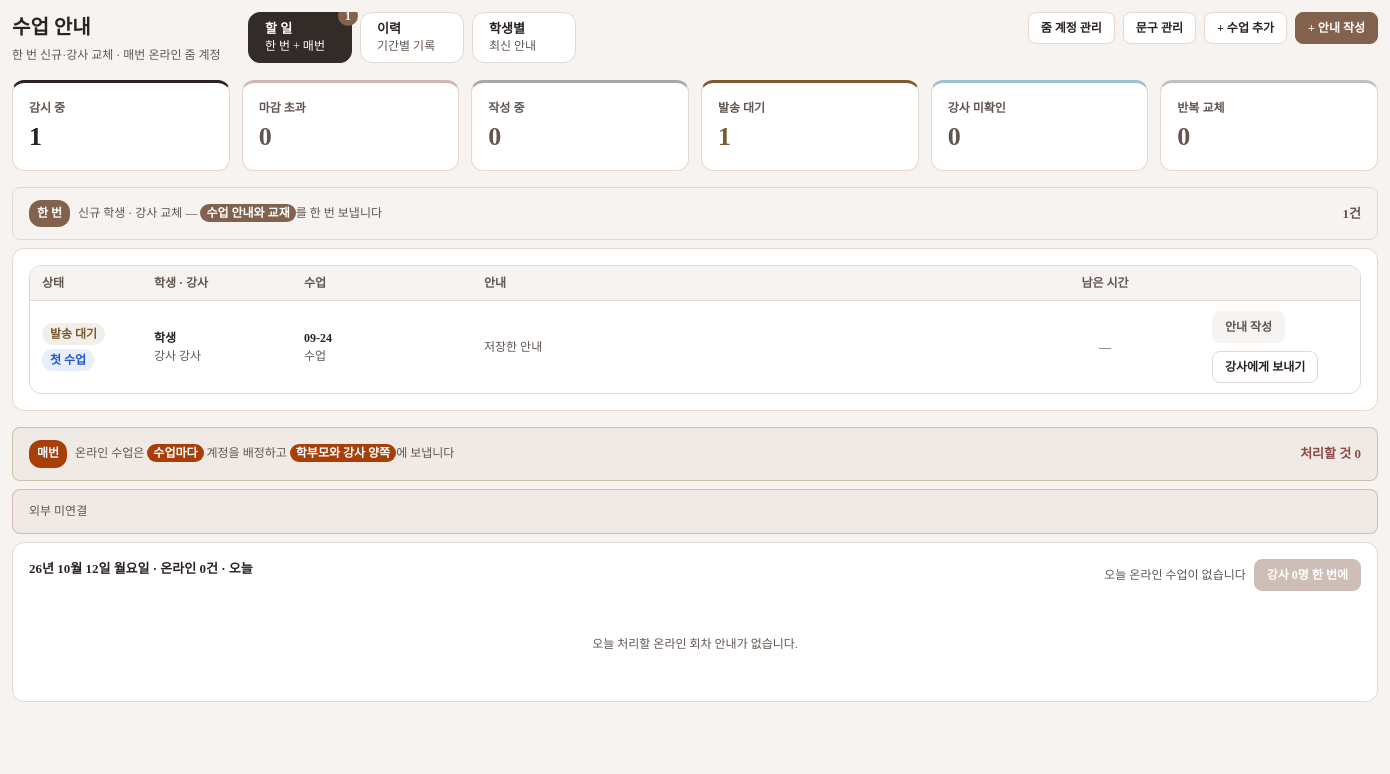
Test: 편집 중에는 발송을 막고 취소 후에도 미저장 본문을 전송하지 않는다
Click the button "안내 작성": (1249, 327) [1212,311,1285,343]
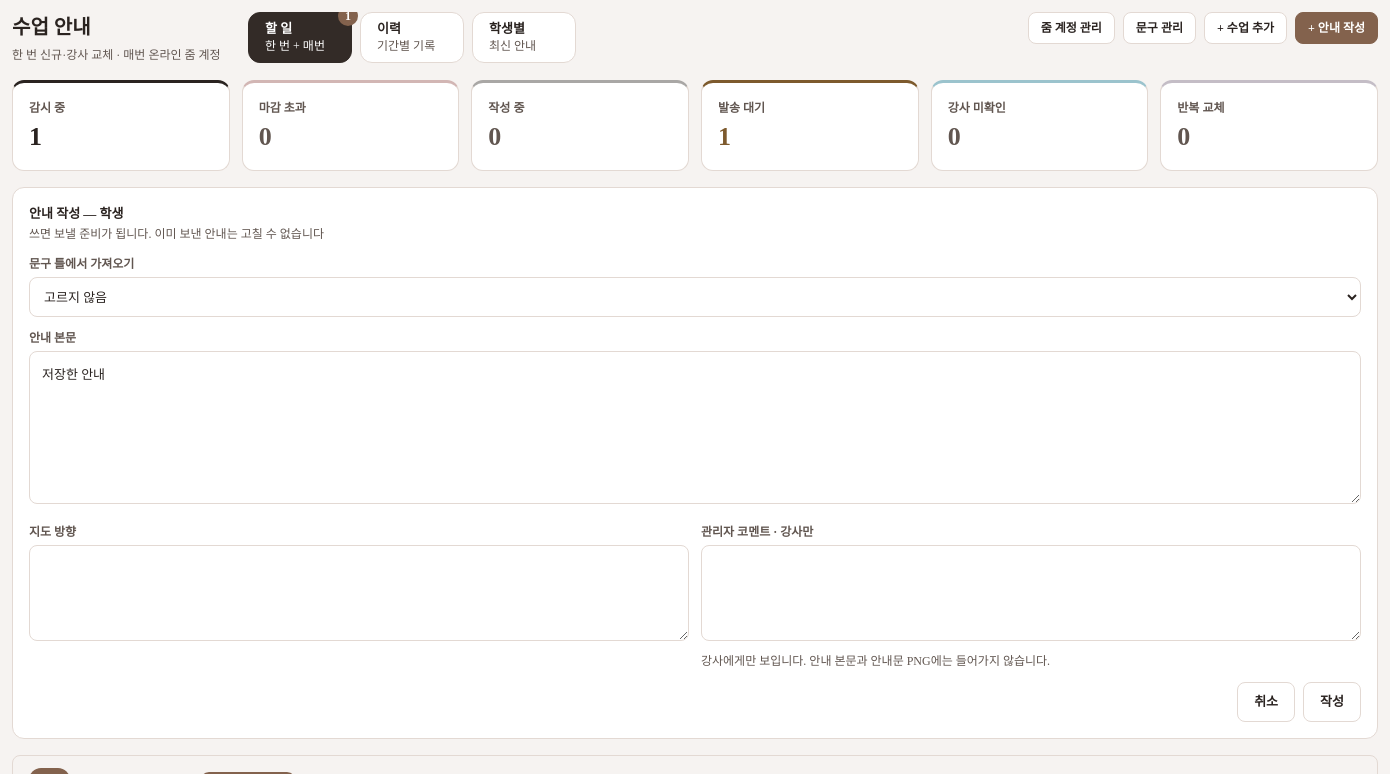
Replace the text in the text box labelled "안내 본문" with "미저장 초안": (695, 427) [29,351,1361,504]
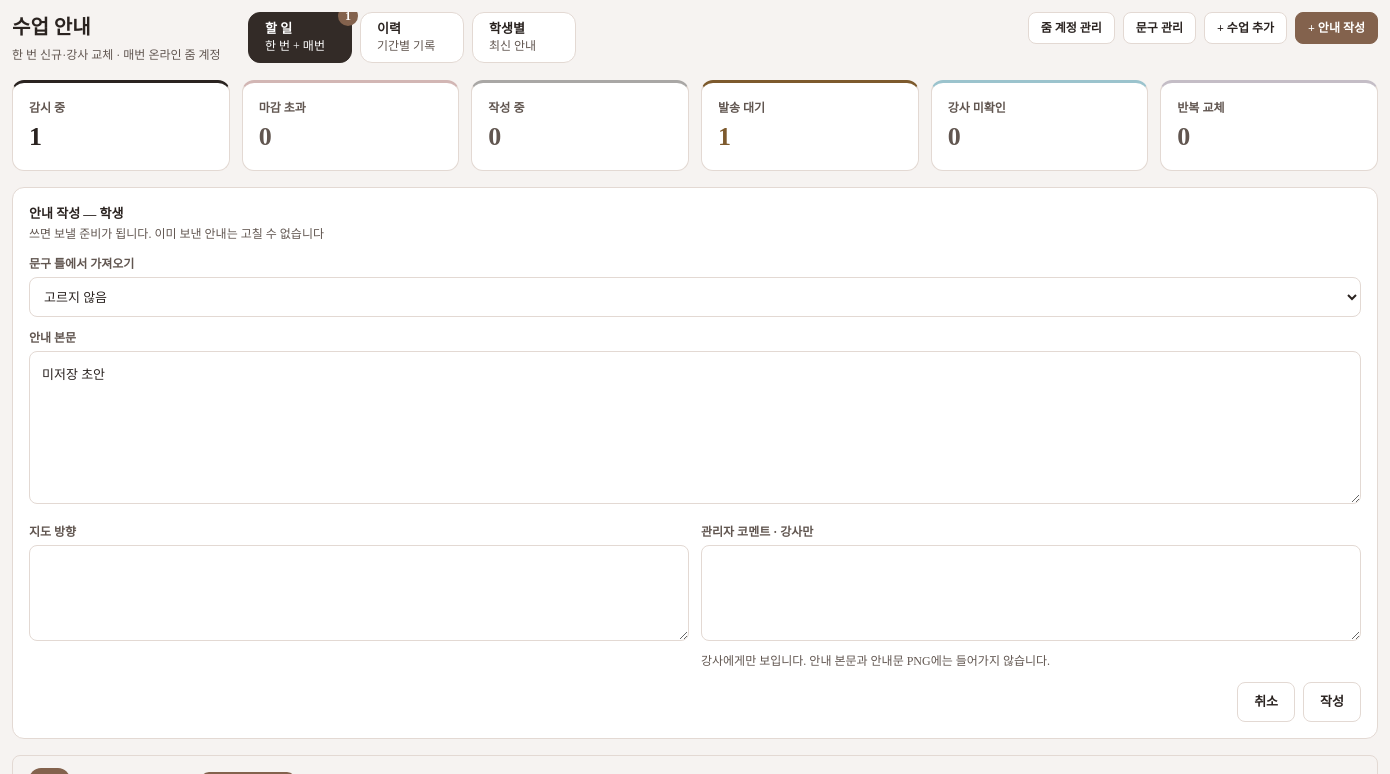
Click the button "취소": (1266, 702) [1237,682,1295,722]
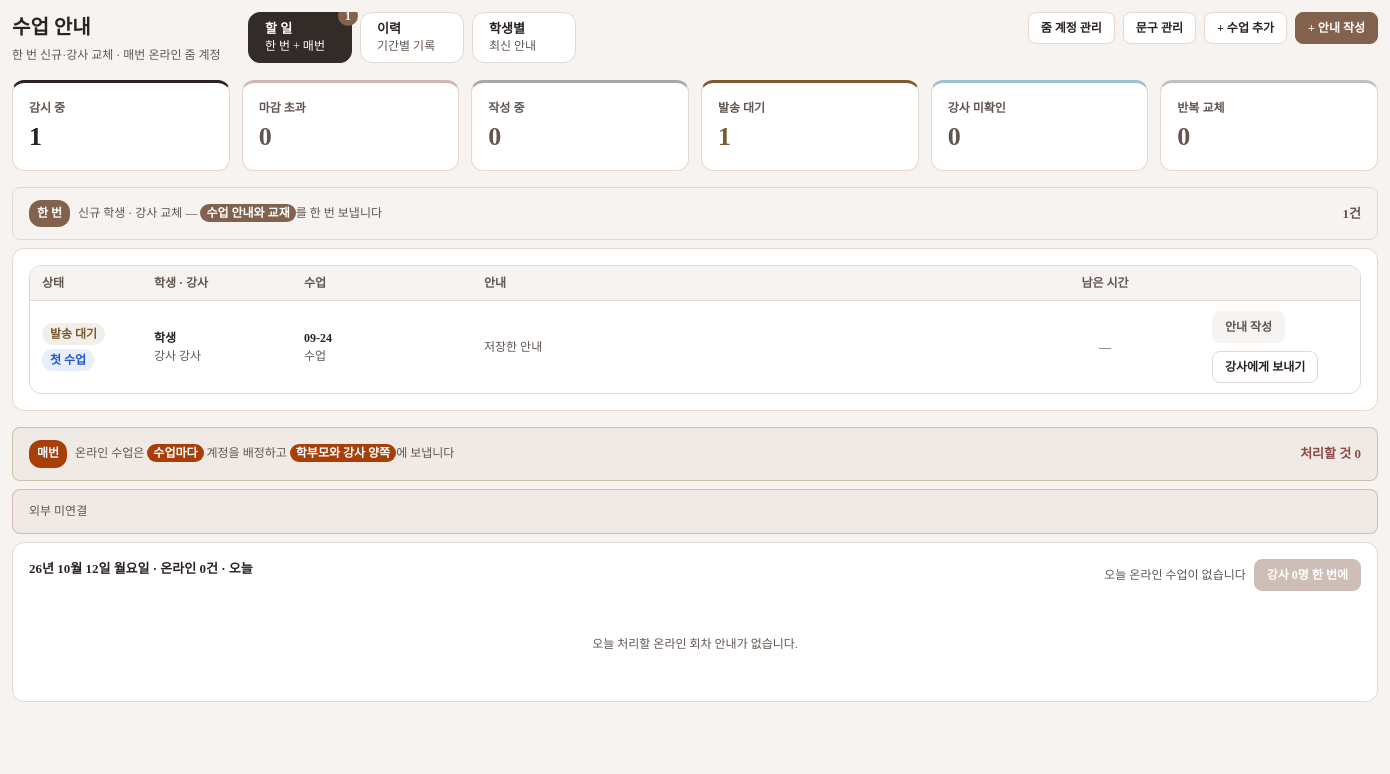
Click the button "강사에게 보내기": (1265, 367) [1212,351,1318,383]
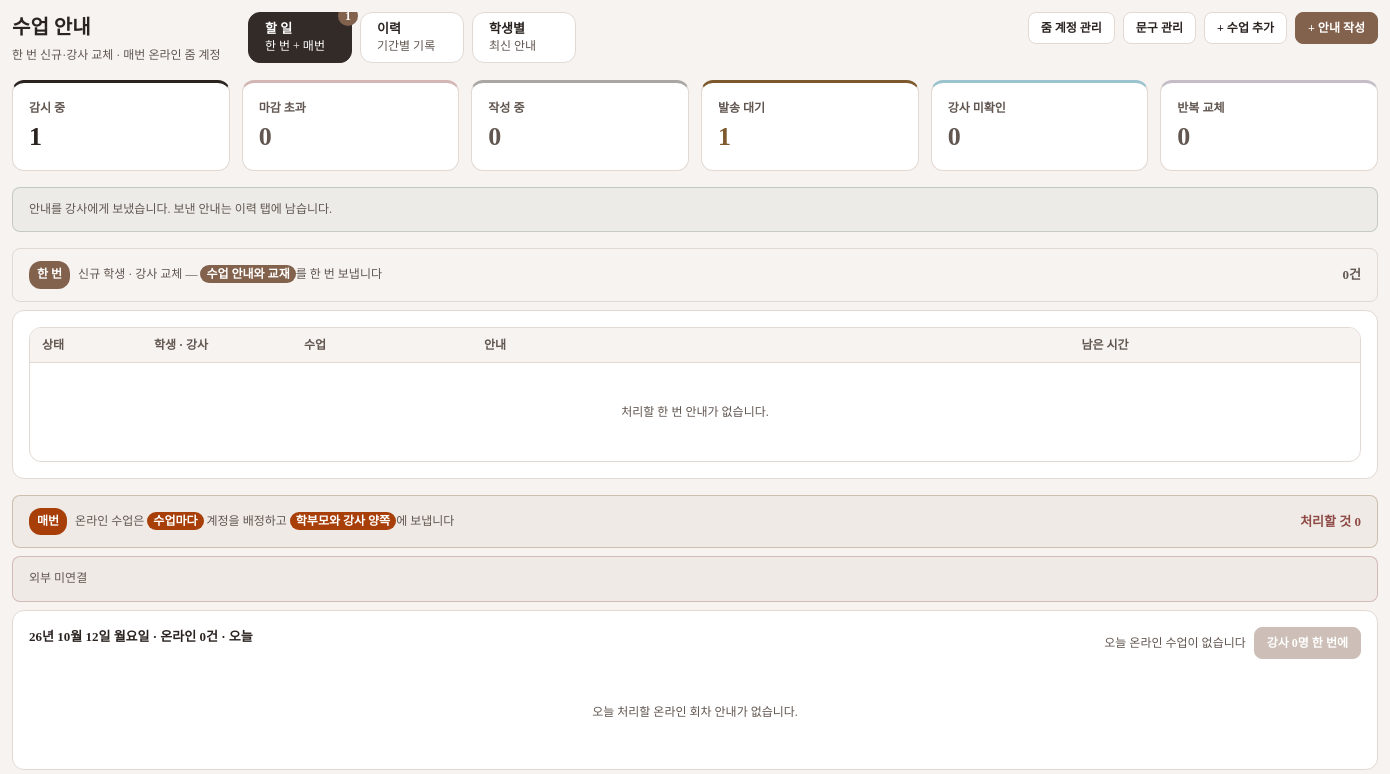
expect the text "안내를 강사에게 보냈습니다. 보낸 안내는 이력 탭에 남습니다." is shown: met, box [29,202,332,216]
